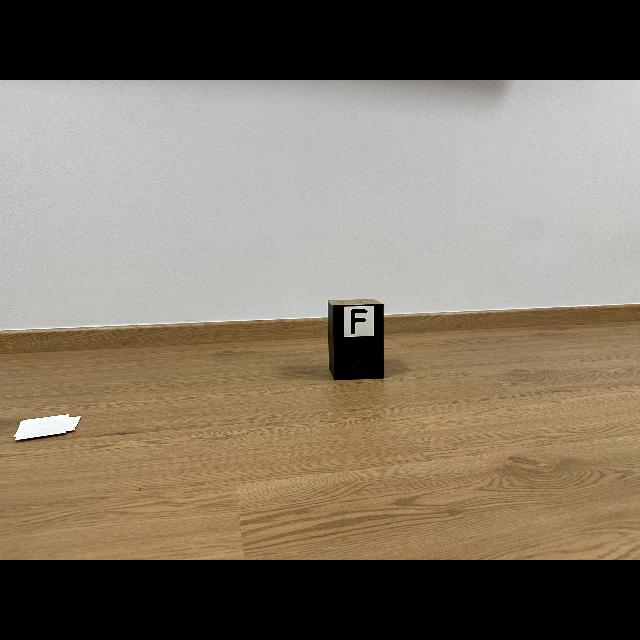F: (350, 309, 368, 334)
